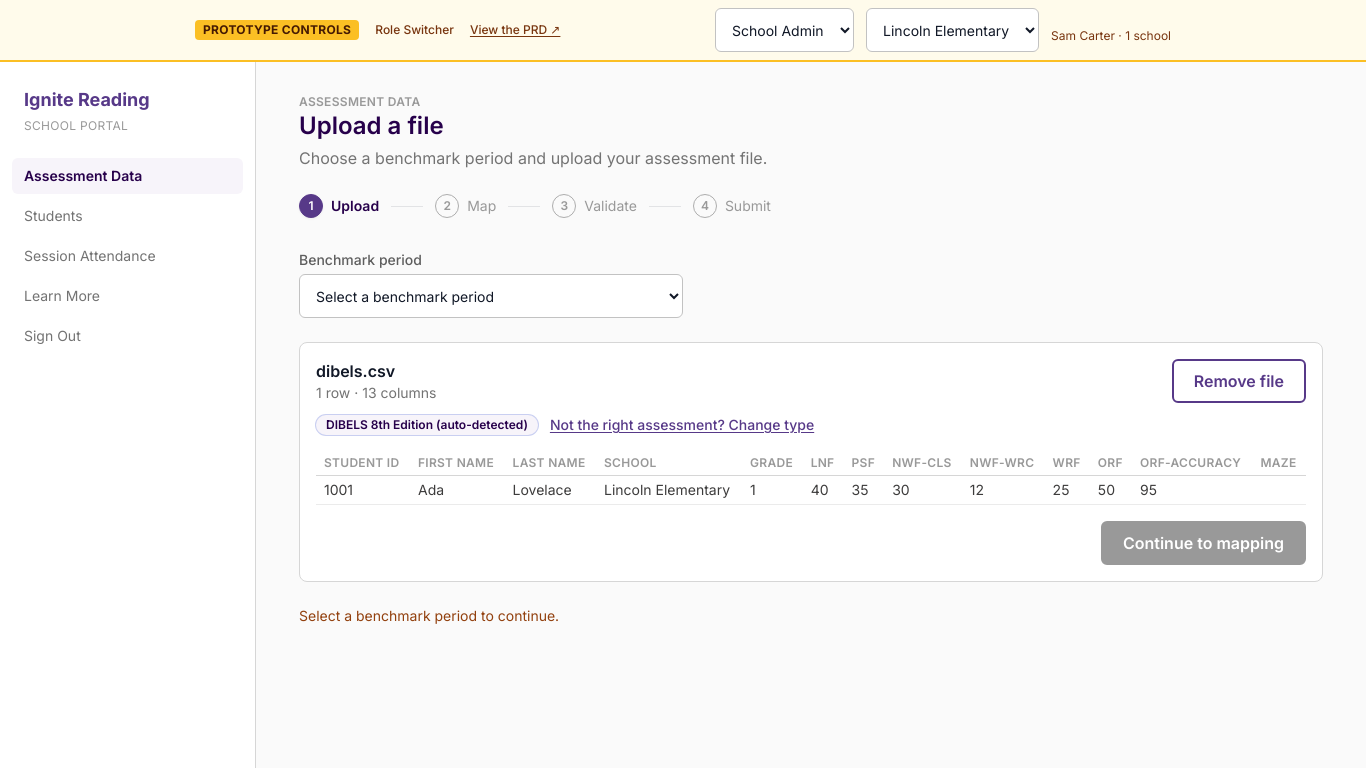
Test case: US1: upload and preview › removes the file and returns to the upload zone
The width and height of the screenshot is (1366, 768).
Earlier steps of the test are not shown.
expect the heading "Upload a file" is shown: met, box [299,111,444,140]
expect the element named "file preview" is shown: met, box [299,342,1323,582]
Step 1. Click the button "Remove file" → (1239, 381), box [1172,359,1306,403]
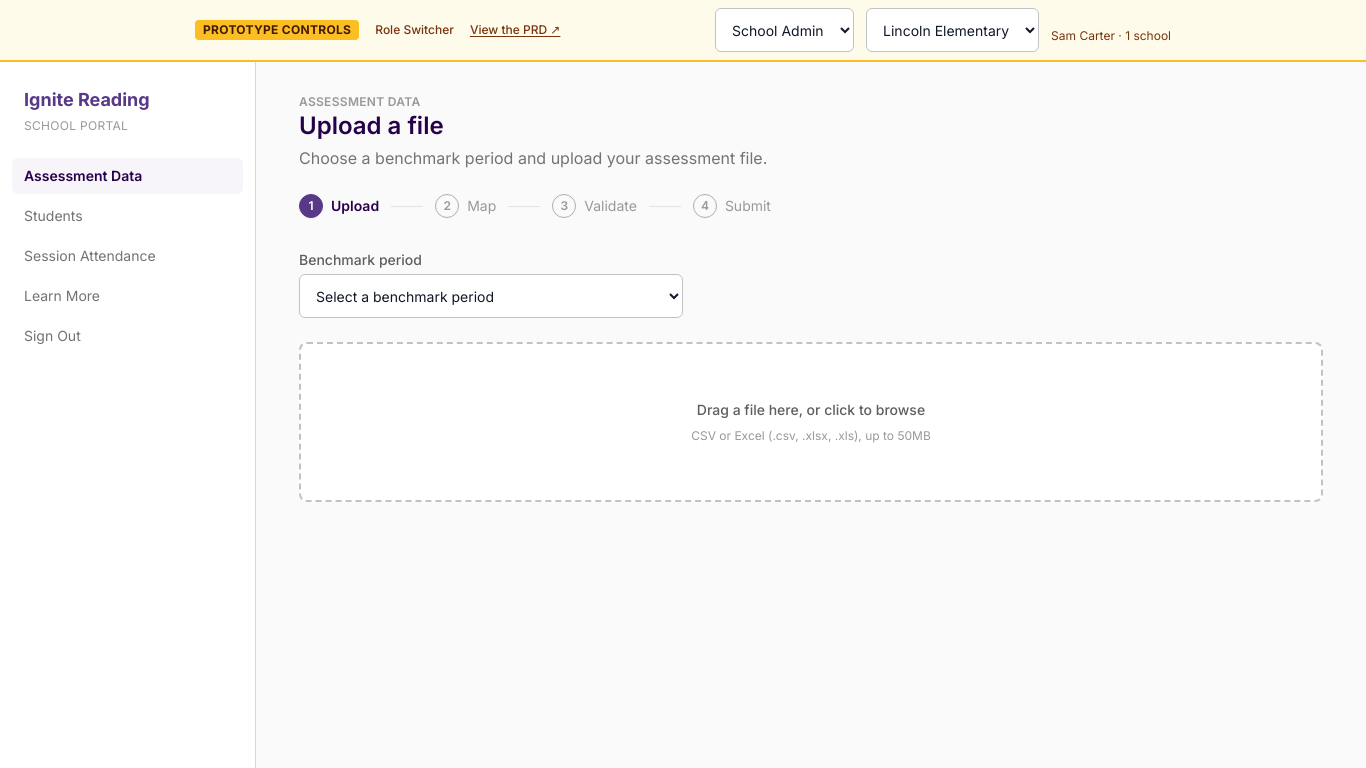
expect the button with aria-label "Upload a file" is shown: met, box [299,342,1323,502]
